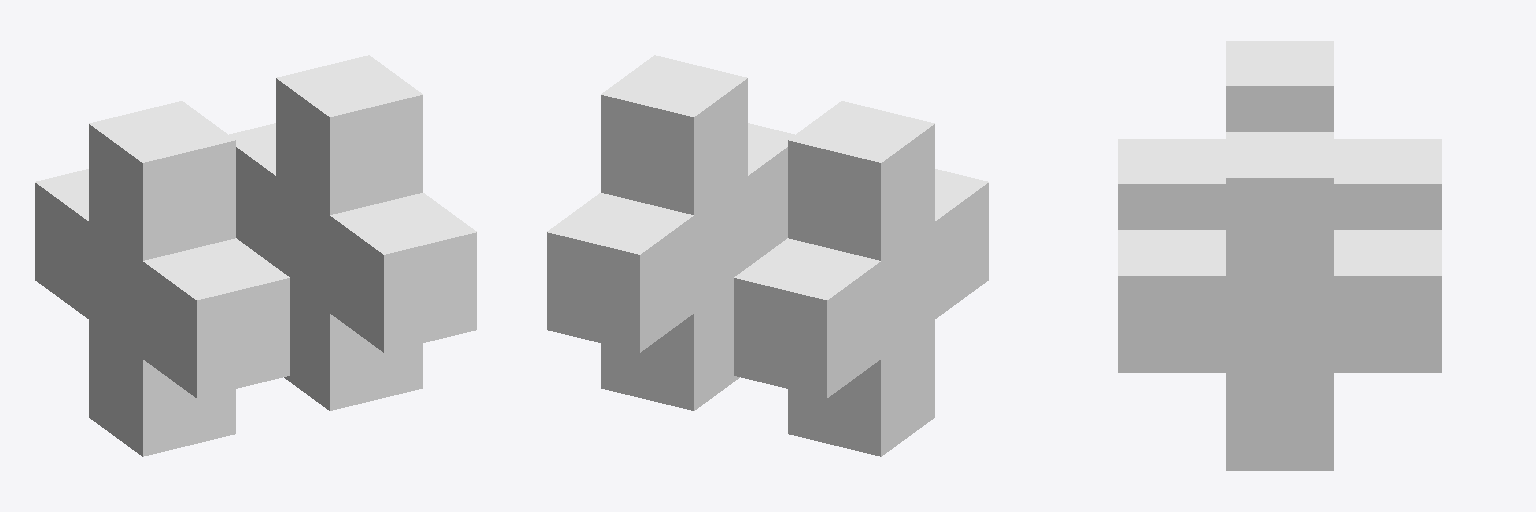
File: onion_cut.obj
The picture shows the model from 3 angles: view 1: azimuth 30°, elevation 25°; view 2: azimuth 150°, elevation 25°; view 3: azimuth 270°, elevation 25°; orthographic projection.
Parts seen in each view (by area): view 1: object 1; view 2: object 1; view 3: object 1.
Part boxes in pixels (x1,y1,x2,y2): object 1: (35,55,476,456); object 1: (547,55,988,456); object 1: (1118,41,1441,470).
Size of the model in its own units: 0.3 by 0.3 by 0.3.